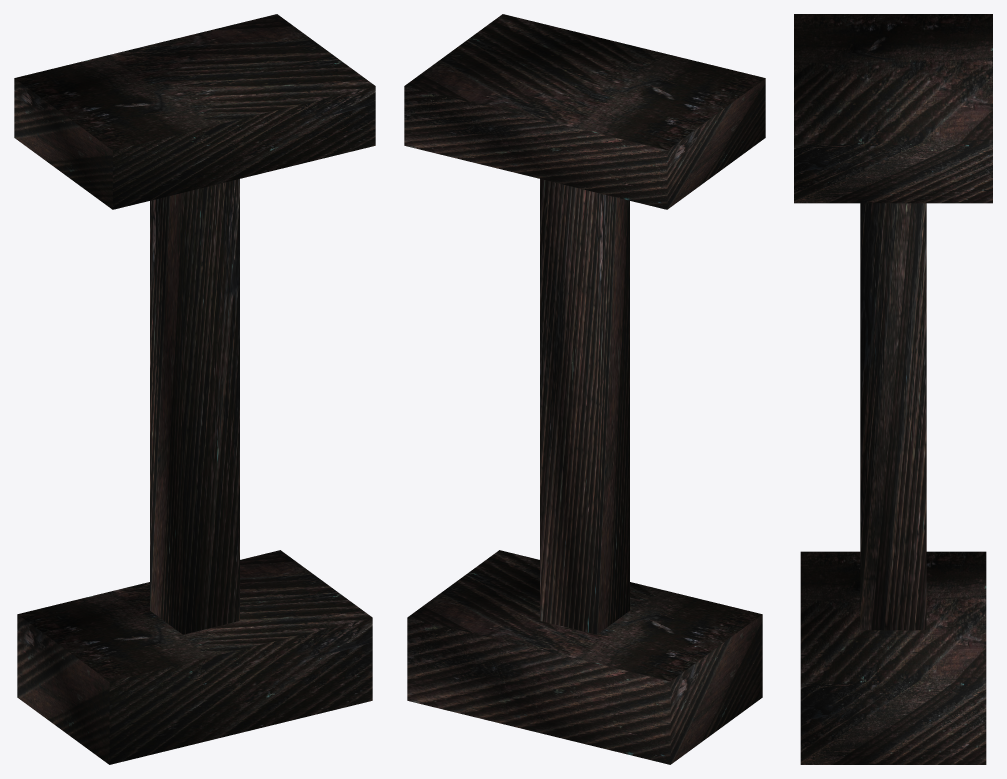
Rendered from pedestal.dae.
The picture shows the model from 3 angles, left to right: view 1: azimuth 30°, elevation 25°; view 2: azimuth 150°, elevation 25°; view 3: azimuth 270°, elevation 25°; orthographic projection.
Parts seen in each view (by area): view 1: Base; view 2: Base; view 3: Base.
Part boxes in pixels (bbox=[...]): Base: bbox=[14, 14, 375, 764]; Base: bbox=[404, 14, 765, 764]; Base: bbox=[794, 14, 992, 764].
Bounding box in the file's own units: 0.5867 × 0.381 × 1.32.
1 material, 1 textured.
